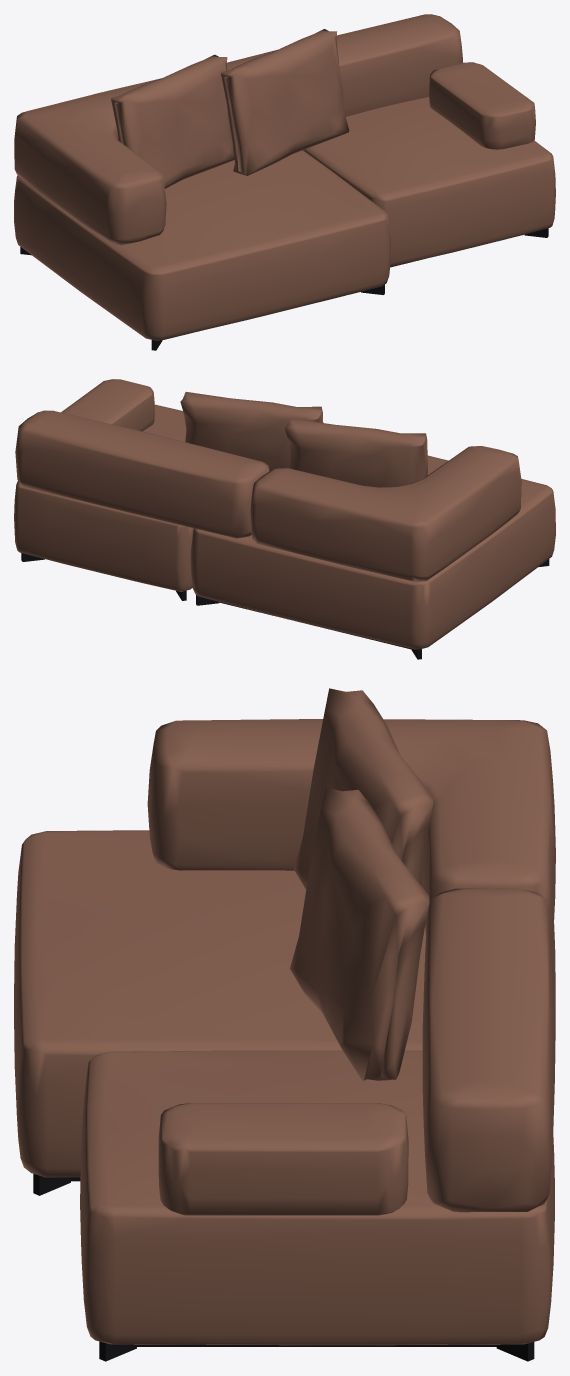
Rendered from Furniture_Sofas-Armchairs_Fritz-Hansen_Alphabet-SofaT-Series-PL210-1.fbx.
3 views of the same model, one above another, from view 1: azimuth 30°, elevation 25°; view 2: azimuth 150°, elevation 25°; view 3: azimuth 270°, elevation 25° (orthographic). The views are drawn at different scales.
Visible parts, largest first — view 1: L_efd06f64_41bd_460b_8718_c4c33e4c71d6_I16, L_261ee8a2_78b9_47fb_a6fe_fc62199f7588_I3, L_221fb735_03ea_4fa2_a80d_ea1f8b97598d_I2, L_acc984e9_0675_4432_9851_a54c7ba42bc2_I11, L_537c408a_1556_44a0_be7a_a182e75f59e9_I6, L_37f4c9f8_cdeb_4f6e_ae6c_cbda62406803_I4, L_b4dbfcfd_cc1e_4f5f_a12e_473415265d1f_I12; view 2: L_efd06f64_41bd_460b_8718_c4c33e4c71d6_I16, L_221fb735_03ea_4fa2_a80d_ea1f8b97598d_I2, L_37f4c9f8_cdeb_4f6e_ae6c_cbda62406803_I4, L_261ee8a2_78b9_47fb_a6fe_fc62199f7588_I3, L_537c408a_1556_44a0_be7a_a182e75f59e9_I6, L_acc984e9_0675_4432_9851_a54c7ba42bc2_I11, L_b4dbfcfd_cc1e_4f5f_a12e_473415265d1f_I12; view 3: L_261ee8a2_78b9_47fb_a6fe_fc62199f7588_I3, L_efd06f64_41bd_460b_8718_c4c33e4c71d6_I16, L_221fb735_03ea_4fa2_a80d_ea1f8b97598d_I2, L_37f4c9f8_cdeb_4f6e_ae6c_cbda62406803_I4, L_b4dbfcfd_cc1e_4f5f_a12e_473415265d1f_I12, L_acc984e9_0675_4432_9851_a54c7ba42bc2_I11, L_537c408a_1556_44a0_be7a_a182e75f59e9_I6, L_6341a20f_6171_48ee_a348_ea05481e1752_I10.
Part boxes in pixels (<box>): L_efd06f64_41bd_460b_8718_c4c33e4c71d6_I16: <box>14,150,390,340</box>; L_261ee8a2_78b9_47fb_a6fe_fc62199f7588_I3: <box>303,97,555,266</box>; L_221fb735_03ea_4fa2_a80d_ea1f8b97598d_I2: <box>14,78,166,245</box>; L_acc984e9_0675_4432_9851_a54c7ba42bc2_I11: <box>220,29,349,175</box>; L_537c408a_1556_44a0_be7a_a182e75f59e9_I6: <box>111,54,234,188</box>; L_37f4c9f8_cdeb_4f6e_ae6c_cbda62406803_I4: <box>226,14,462,116</box>; L_b4dbfcfd_cc1e_4f5f_a12e_473415265d1f_I12: <box>428,62,535,149</box>; L_efd06f64_41bd_460b_8718_c4c33e4c71d6_I16: <box>190,455,555,649</box>; L_221fb735_03ea_4fa2_a80d_ea1f8b97598d_I2: <box>250,446,521,582</box>; L_37f4c9f8_cdeb_4f6e_ae6c_cbda62406803_I4: <box>15,410,269,538</box>; L_261ee8a2_78b9_47fb_a6fe_fc62199f7588_I3: <box>14,404,193,591</box>; L_537c408a_1556_44a0_be7a_a182e75f59e9_I6: <box>285,418,427,487</box>; L_acc984e9_0675_4432_9851_a54c7ba42bc2_I11: <box>180,392,323,470</box>; L_b4dbfcfd_cc1e_4f5f_a12e_473415265d1f_I12: <box>61,379,154,431</box>; L_261ee8a2_78b9_47fb_a6fe_fc62199f7588_I3: <box>80,1050,554,1345</box>; L_efd06f64_41bd_460b_8718_c4c33e4c71d6_I16: <box>14,830,555,1177</box>; L_221fb735_03ea_4fa2_a80d_ea1f8b97598d_I2: <box>147,719,555,949</box>; L_37f4c9f8_cdeb_4f6e_ae6c_cbda62406803_I4: <box>422,888,554,1212</box>; L_b4dbfcfd_cc1e_4f5f_a12e_473415265d1f_I12: <box>158,1103,408,1215</box>; L_acc984e9_0675_4432_9851_a54c7ba42bc2_I11: <box>290,788,429,1080</box>; L_537c408a_1556_44a0_be7a_a182e75f59e9_I6: <box>294,688,433,889</box>; L_6341a20f_6171_48ee_a348_ea05481e1752_I10: <box>137,1344,496,1346</box>.
Bounding box in the file's own units: 2112 × 1224 × 847.
